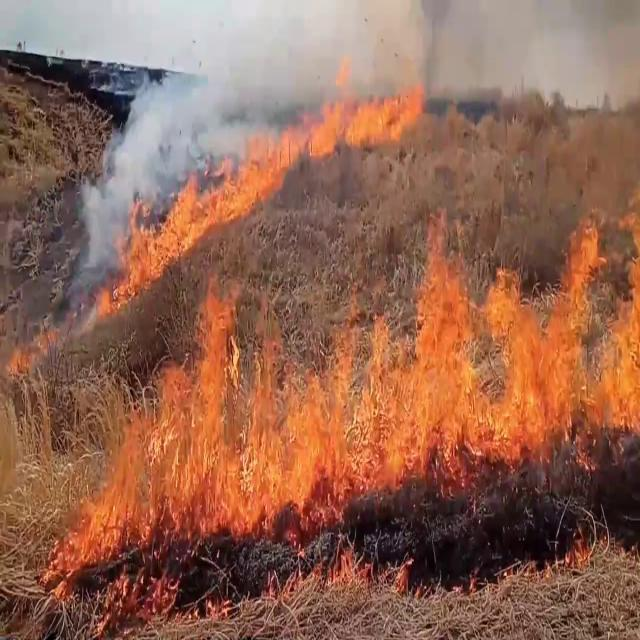Fire: (81, 200, 640, 530), (104, 116, 304, 309), (274, 58, 428, 160)
Smoke: (69, 43, 231, 247)
